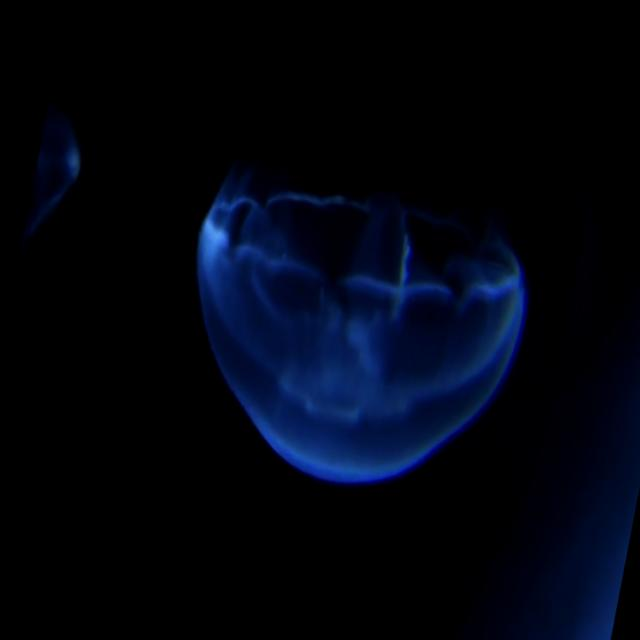Moon-jellyfish: (188, 113, 526, 479)
